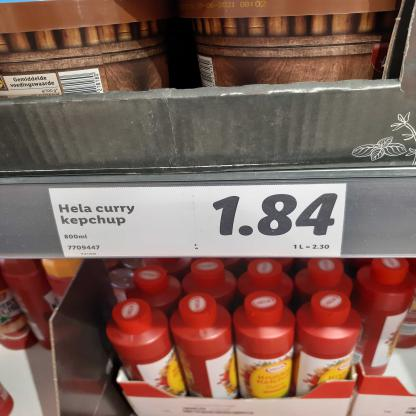prtg: (49, 184, 348, 258)
